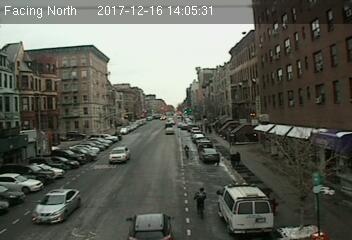bicycle: (193, 186, 206, 221), (184, 144, 189, 159)
car: (32, 188, 80, 224), (123, 214, 173, 240), (108, 147, 129, 162), (200, 148, 220, 163)
police: (215, 180, 273, 235)
